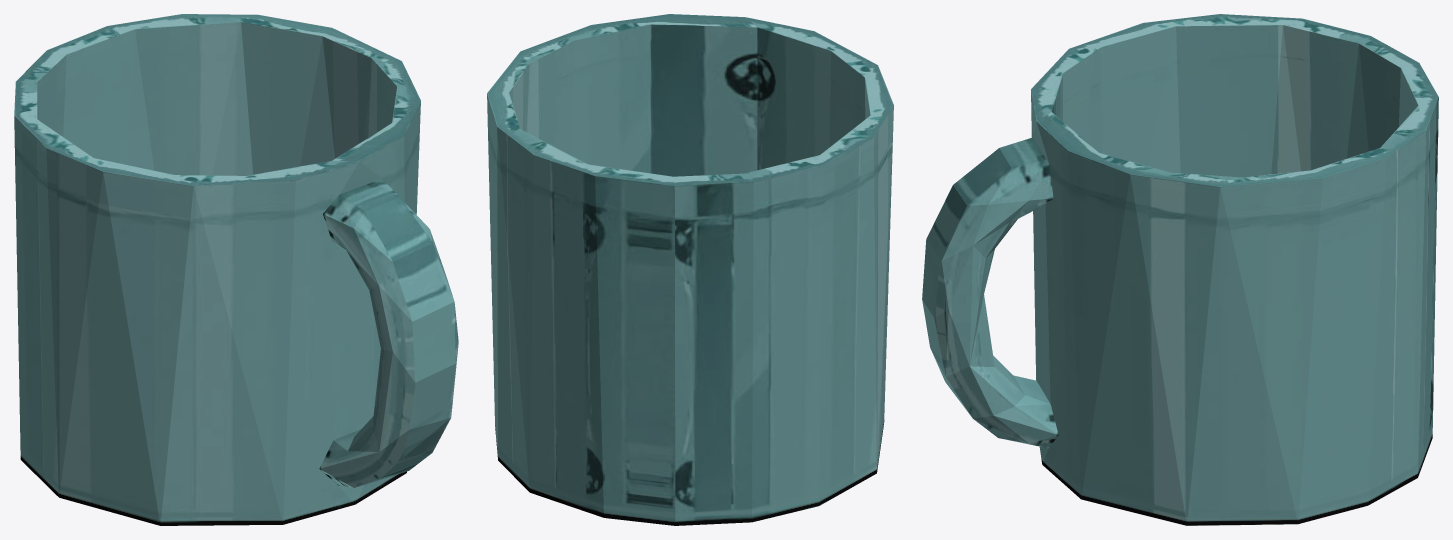
File: cup.glb
The picture shows the model from 3 angles, left to right: view 1: azimuth 30°, elevation 25°; view 2: azimuth 150°, elevation 25°; view 3: azimuth 270°, elevation 25°; orthographic projection.
Parts seen in each view (by area): view 1: Cup; view 2: Cup; view 3: Cup.
Part boxes in pixels (x1,y1,x2,y2): Cup: (14,14,458,525); Cup: (487,14,893,525); Cup: (922,14,1438,525).
Bounding box in the file's own units: 0.1592 × 0.1475 × 0.2009.
1 material, 1 textured.
